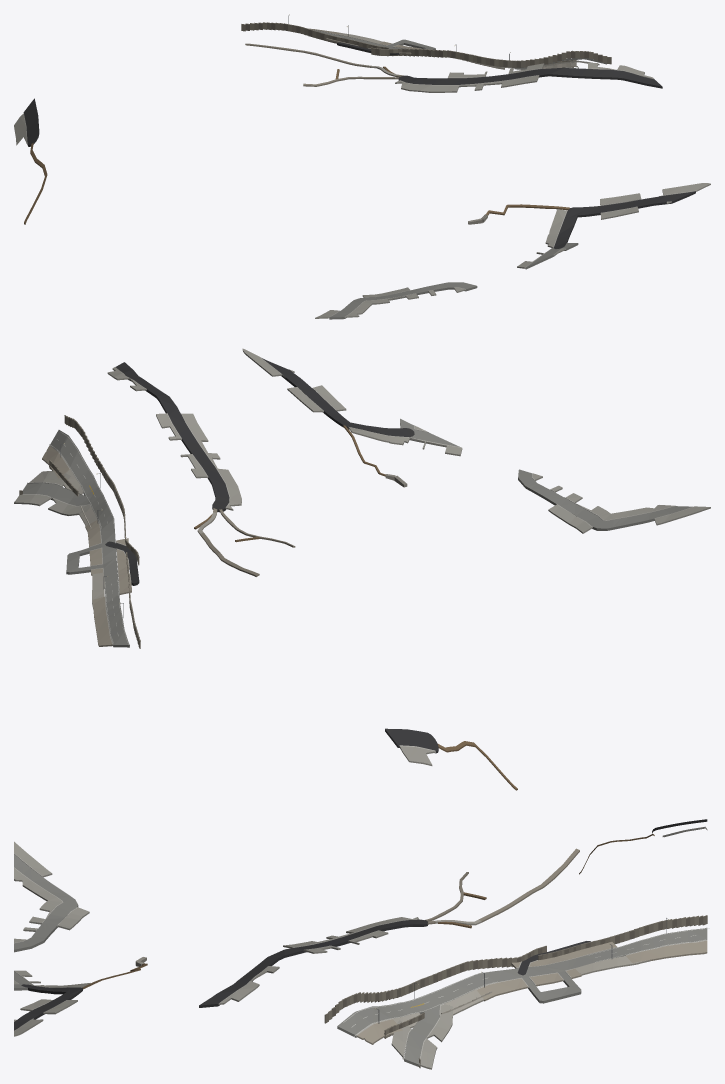
The model's file is 17-109425-59469.dbea7156.glb.
3 views of the same model, one above another, from view 1: azimuth 30°, elevation 25°; view 2: azimuth 150°, elevation 25°; view 3: azimuth 270°, elevation 25° (orthographic). The views are drawn at different scales.
Size of the model in its own units: 294 by 82.31 by 293.
